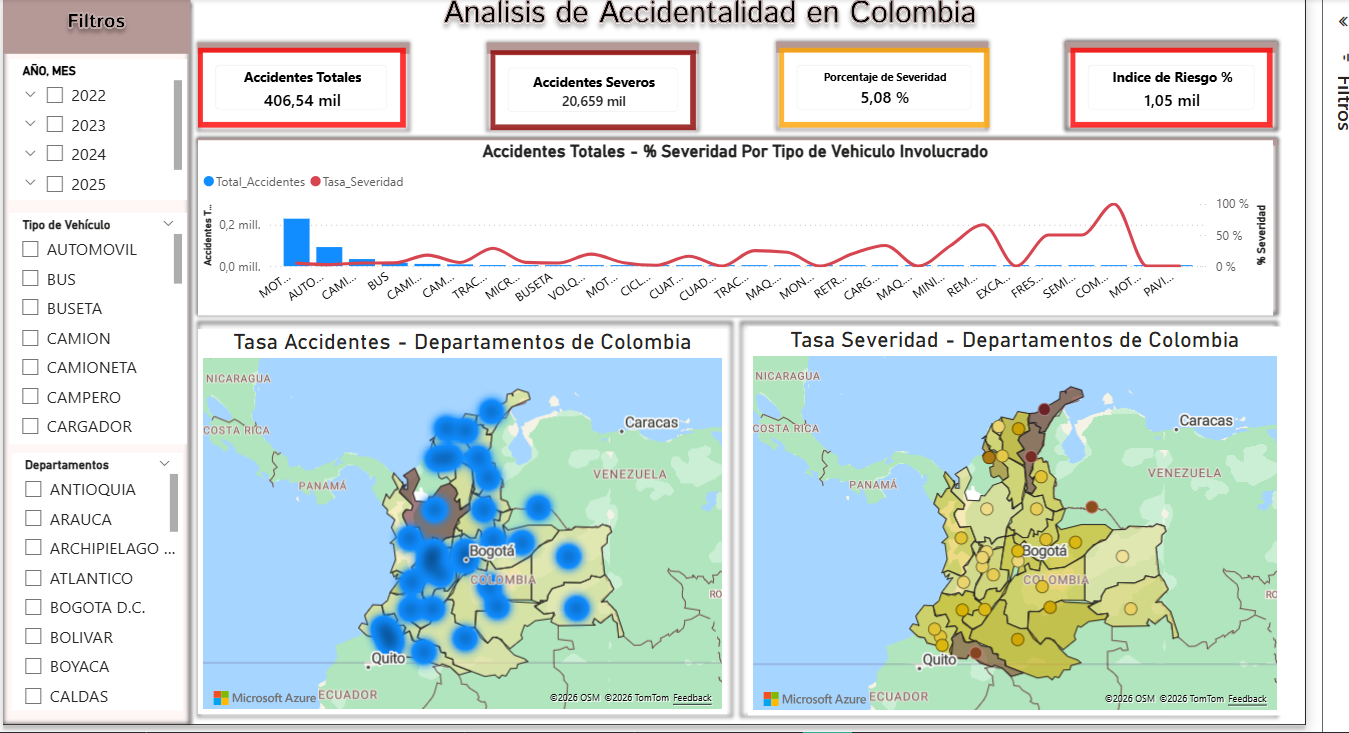

This screenshot's page, from the dashboard's own definition file:
{"tool":"powerbi","page":{"name":"Análisis de Accidentalidad vs Severidad","canvas":[1280,720],"ordinal":0},"visuals":[{"type":"slicer","fields":{"Values":["dataset_accidentes_limpio.AÑO","dataset_accidentes_limpio.MES"]},"box":[6.1,58.9,174.2,138.7],"z":3000},{"type":"azureMap","title":"Tasa Accidentes - Departamentos de Colombia","fields":{"Category":["dataset_accidentes_limpio.UBICACION"]},"box":[191.4,323.9,519,377.9],"z":4000},{"type":"azureMap","title":"Tasa Severidad - Departamentos de Colombia","fields":{"Category":["dataset_accidentes_limpio.UBICACION"]},"box":[731.3,321.5,523.9,381.6],"z":5000},{"type":"lineStackedColumnComboChart","title":"Accidentes Totales - % Severidad  Por Tipo de Vehiculo Involucrado ","fields":{"Category":["dataset_accidentes_limpio.TIPO_VEHICULO"],"Y":["Medidas❗.Total_Accidentes"],"Y2":["Medidas❗.Tasa_Severidad"]},"box":[191.4,138.7,1055.2,171.8],"z":6000},{"type":"slicer","fields":{"Values":["dataset_accidentes_limpio.DEPARTAMENTO_ACCIDENTE"]},"box":[8.6,445.4,168.1,252.8],"z":7000},{"type":"slicer","fields":{"Values":["dataset_accidentes_limpio.TIPO_VEHICULO"]},"box":[6.1,209.8,174.2,227],"z":8000},{"type":"cardVisual","fields":{"Data":["Medidas❗.Total_Accidentes"]},"box":[191.4,47.9,203.7,78.5],"z":9000},{"type":"cardVisual","fields":{"Data":["Medidas❗.Accidentes_Severos"]},"box":[478.5,50.3,201.2,78.5],"z":9001},{"type":"cardVisual","fields":{"Data":["Medidas❗.Tasa_Severidad"]},"box":[762,47.9,206.1,78.5],"z":9002},{"type":"cardVisual","fields":{"Data":["Medidas❗.Indice de Riesgo"]},"box":[1047.9,47.9,198.8,78.5],"z":9003}]}

Visuals, with their boxes in screenshot pixels (x1, y1, x2, y2):
slicer - dataset_accidentes_limpio.AÑO x dataset_accidentes_limpio.MES: region(0, 51, 181, 195)
"Tasa Accidentes - Departamentos de Colombia" azureMap: region(193, 327, 734, 721)
"Tasa Severidad - Departamentos de Colombia" azureMap: region(755, 325, 1302, 723)
"Accidentes Totales - % Severidad  Por Tipo de Vehiculo Involucrado " lineStackedColumnComboChart: region(193, 134, 1293, 313)
slicer - dataset_accidentes_limpio.DEPARTAMENTO_ACCIDENTE: region(2, 454, 177, 717)
slicer - dataset_accidentes_limpio.TIPO_VEHICULO: region(0, 208, 181, 445)
cardVisual - Medidas❗.Total_Accidentes: region(193, 39, 405, 121)
cardVisual - Medidas❗.Accidentes_Severos: region(492, 42, 702, 124)
cardVisual - Medidas❗.Tasa_Severidad: region(787, 39, 1002, 121)
cardVisual - Medidas❗.Indice de Riesgo: region(1086, 39, 1293, 121)
